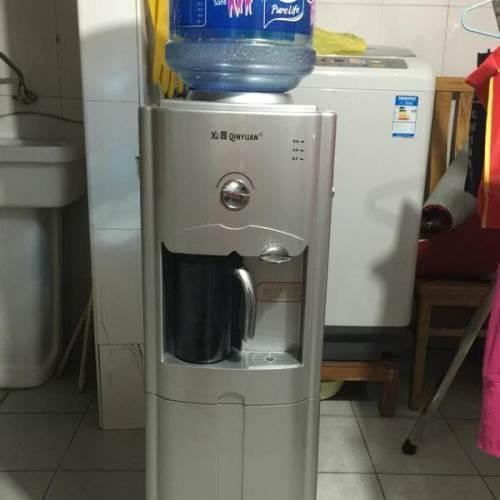Dispenser: (136, 0, 338, 499)
